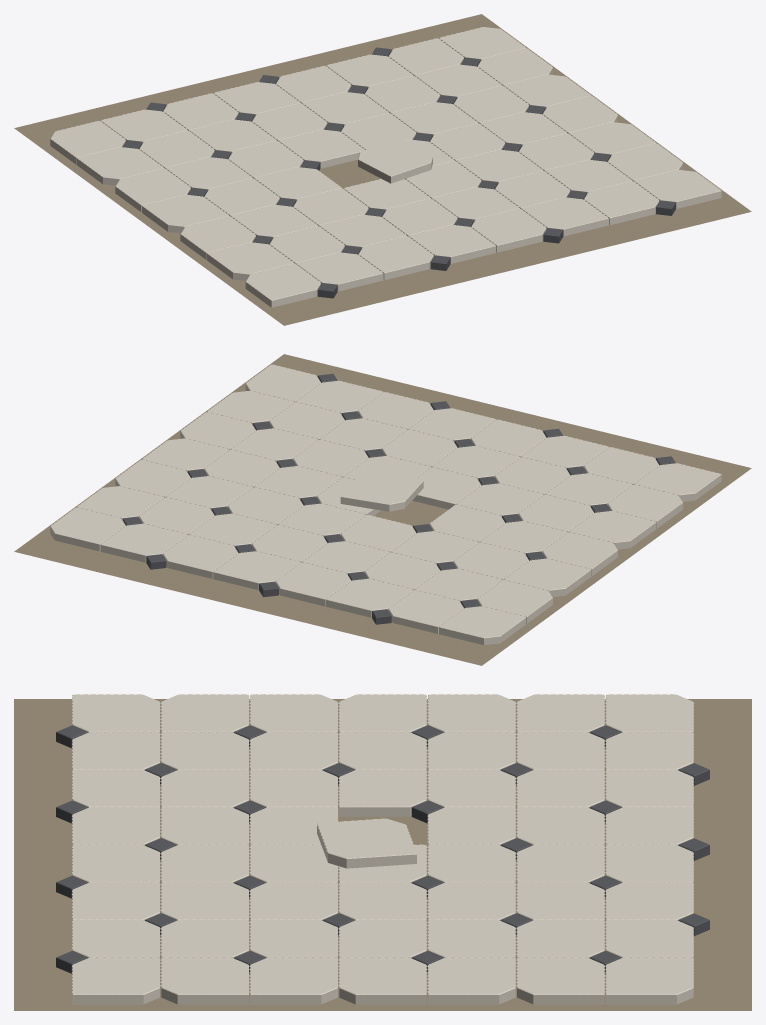
Rendered from terilgan.glb.
3 renders of one model, top to bottom at view 1: azimuth 30°, elevation 25°; view 2: azimuth 150°, elevation 25°; view 3: azimuth 270°, elevation 25°, orthographic. The views are drawn at different scales.
Visible parts, largest first — view 1: qum, t.027, t, t.003, t.001, t.004, t.002, t.007, t.005, t.006, t.040, t.008 (+44 smaller); view 2: qum, t.048, t.027, t.055, t.049, t.053, t.052, t.054, t.051, t.050, t.016, t.032 (+45 smaller); view 3: qum, t.027, t.007, t.031, t.039, t.015, t.023, t.047, t.055, t.026, t.002, t.034 (+45 smaller).
Part boxes in pixels (x1=…): qum: x1=14, y1=14, x2=751, y2=325; t.027: x1=358, y1=138, x2=432, y2=183; t: x1=245, y1=263, x2=320, y2=307; t.003: x1=408, y1=225, x2=496, y2=263; t.001: x1=296, y1=252, x2=383, y2=291; t.004: x1=471, y1=208, x2=546, y2=252; t.002: x1=358, y1=236, x2=433, y2=280; t.007: x1=634, y1=170, x2=721, y2=208; t.005: x1=521, y1=197, x2=608, y2=236; t.006: x1=584, y1=181, x2=659, y2=224; t.040: x1=76, y1=147, x2=163, y2=185; t.008: x1=207, y1=242, x2=294, y2=280; qum: x1=14, y1=354, x2=751, y2=665; t.048: x1=439, y1=606, x2=526, y2=645; t.027: x1=340, y1=473, x2=423, y2=511; t.055: x1=50, y1=507, x2=125, y2=551; t.049: x1=388, y1=590, x2=463, y2=633; t.053: x1=163, y1=535, x2=238, y2=578; t.052: x1=213, y1=551, x2=300, y2=590; t.054: x1=100, y1=523, x2=187, y2=562; t.051: x1=275, y1=562, x2=351, y2=606; t.050: x1=326, y1=578, x2=413, y2=617; t.016: x1=569, y1=511, x2=656, y2=549; t.032: x1=504, y1=558, x2=591, y2=597; qum: x1=14, y1=699, x2=751, y2=1010; t.027: x1=317, y1=818, x2=416, y2=868; t.007: x1=72, y1=957, x2=160, y2=1004; t.031: x1=338, y1=957, x2=427, y2=1004; t.039: x1=427, y1=957, x2=516, y2=1004; t.015: x1=161, y1=957, x2=249, y2=1004; t.023: x1=249, y1=957, x2=338, y2=1004; t.047: x1=516, y1=957, x2=604, y2=1004; t.055: x1=605, y1=957, x2=693, y2=1004; t.026: x1=338, y1=769, x2=427, y2=816; t.002: x1=72, y1=769, x2=160, y2=807; t.034: x1=427, y1=769, x2=516, y2=807.
Size of the model in its own units: 1.66 by 0.052 by 1.66.
